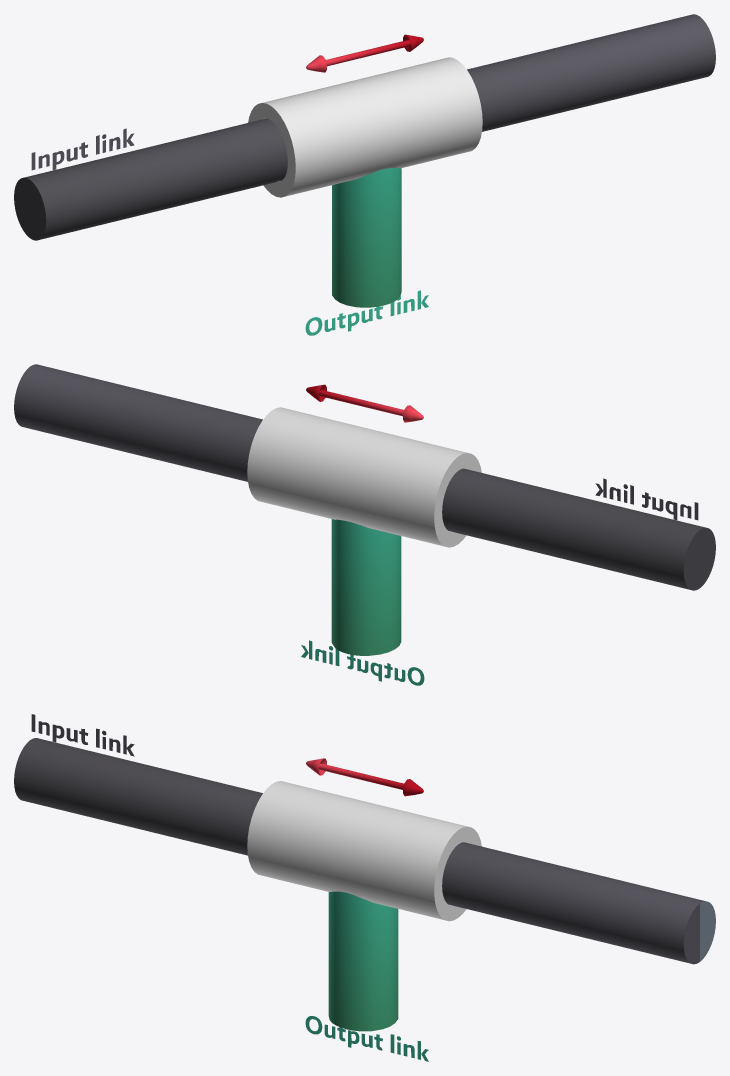
Rendered from OrthogonalJoint.fbx.
The picture shows the model from 3 angles, top to bottom: view 1: azimuth 30°, elevation 25°; view 2: azimuth 150°, elevation 25°; view 3: azimuth 330°, elevation 25°; orthographic projection.
Visible parts, largest first — view 1: Othogonal_InputLink, LinearJoint_OutputLink1, OrthogonalJointArrow; view 2: Othogonal_InputLink, LinearJoint_OutputLink1, OrthogonalJointArrow; view 3: Othogonal_InputLink, LinearJoint_OutputLink1, OrthogonalJointArrow.
Part boxes in pixels (left/top/right/bottom): Othogonal_InputLink: left=14, top=14, right=715, bottom=240; LinearJoint_OutputLink1: left=248, top=57, right=482, bottom=335; OrthogonalJointArrow: left=306, top=34, right=423, bottom=72; Othogonal_InputLink: left=14, top=364, right=715, bottom=590; LinearJoint_OutputLink1: left=247, top=407, right=481, bottom=685; OrthogonalJointArrow: left=306, top=384, right=423, bottom=422; Othogonal_InputLink: left=14, top=714, right=715, bottom=964; LinearJoint_OutputLink1: left=247, top=781, right=481, bottom=1061; OrthogonalJointArrow: left=306, top=758, right=423, bottom=796.
Size of the model in its own units: 231 by 93.1 by 28.98.
